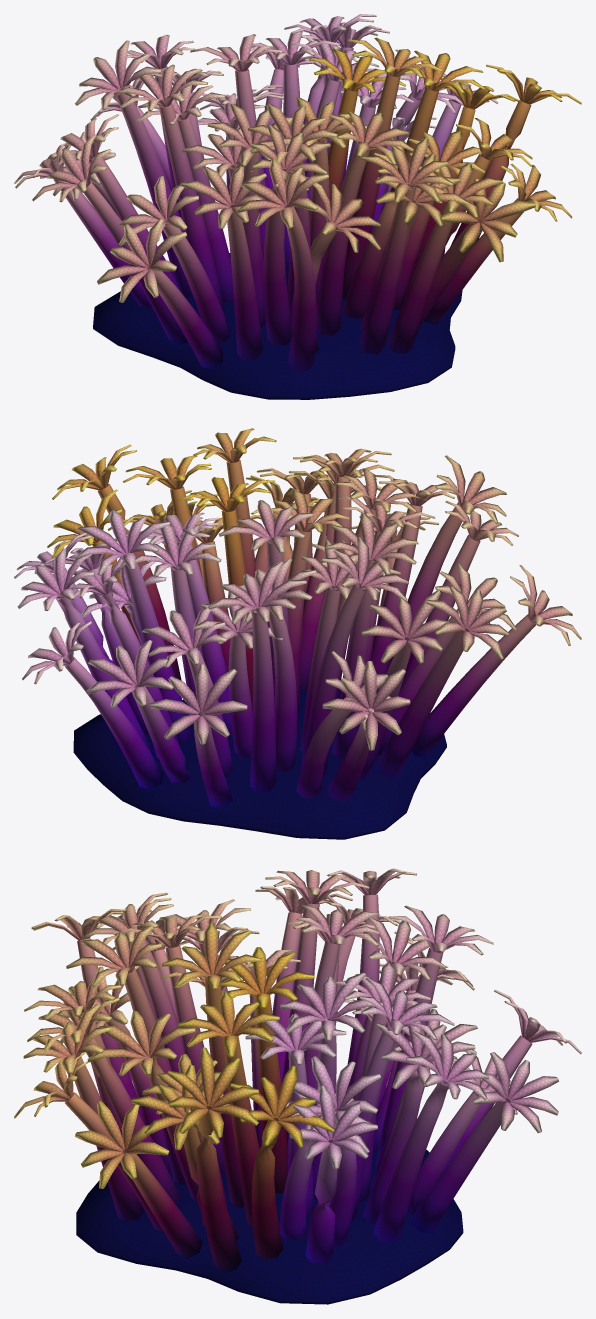
File: reef-xenia-pulsing-plume.glb
3 views of the same model, one above another, from view 1: azimuth 30°, elevation 25°; view 2: azimuth 150°, elevation 25°; view 3: azimuth 270°, elevation 25° (orthographic). The views are drawn at different scales.
Visible parts, largest first — view 1: Reef_Xenia_Pulsing_Plume; view 2: Reef_Xenia_Pulsing_Plume; view 3: Reef_Xenia_Pulsing_Plume.
Boxes of the visible parts, left/top/right/bottom form: Reef_Xenia_Pulsing_Plume: left=14, top=14, right=581, bottom=399; Reef_Xenia_Pulsing_Plume: left=14, top=428, right=581, bottom=839; Reef_Xenia_Pulsing_Plume: left=14, top=868, right=581, bottom=1304.
Size of the model in its own units: 0.3617 by 0.2018 by 0.3392.
Materials: 2 (2 with a texture image).
